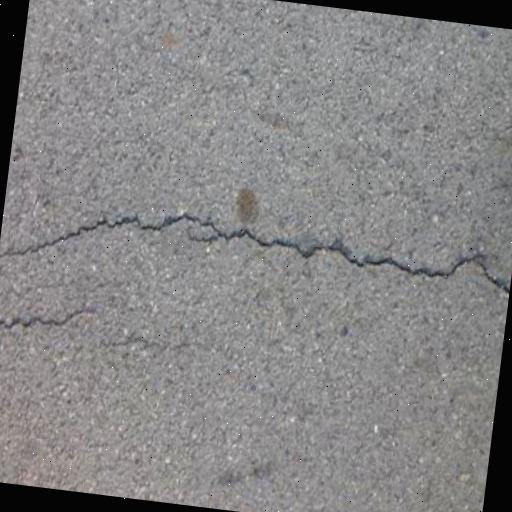spalling: (7, 198, 510, 309), (0, 299, 97, 340)
